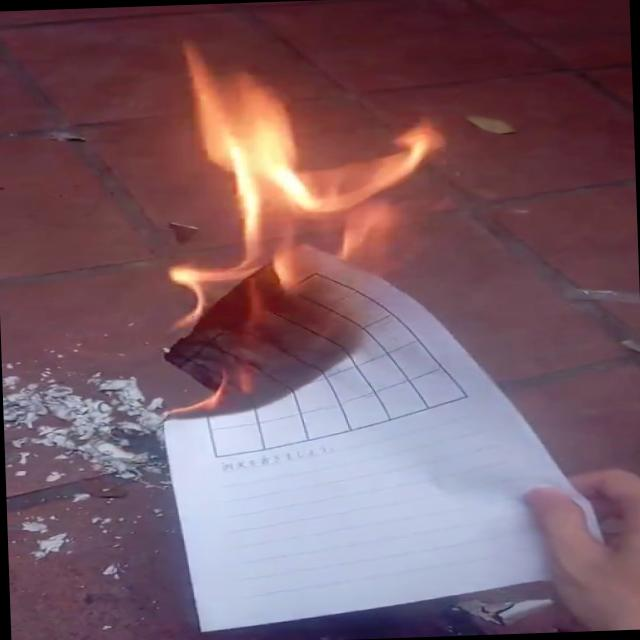Fire_Dangerous: (144, 38, 442, 410)
